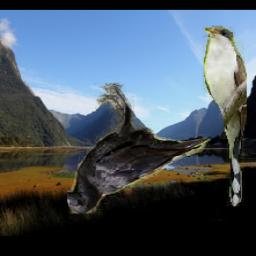Crow: (67, 82, 211, 213)
Cuckoo: (203, 26, 247, 206)
